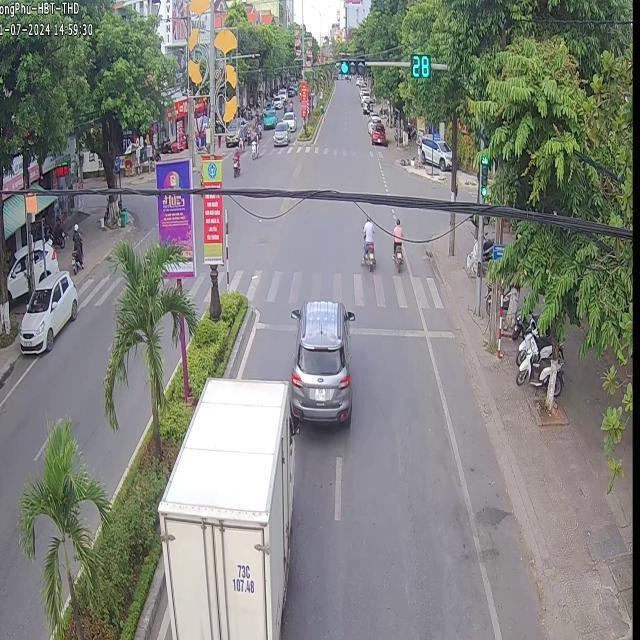car: (157, 376, 293, 638), (289, 298, 353, 425), (17, 269, 77, 351)
green_light: (340, 55, 366, 78), (408, 51, 430, 78), (478, 152, 489, 194)
motobike: (362, 240, 374, 269), (392, 242, 402, 271)
stop_line: (348, 325, 423, 336), (256, 321, 293, 329), (427, 329, 450, 336)
